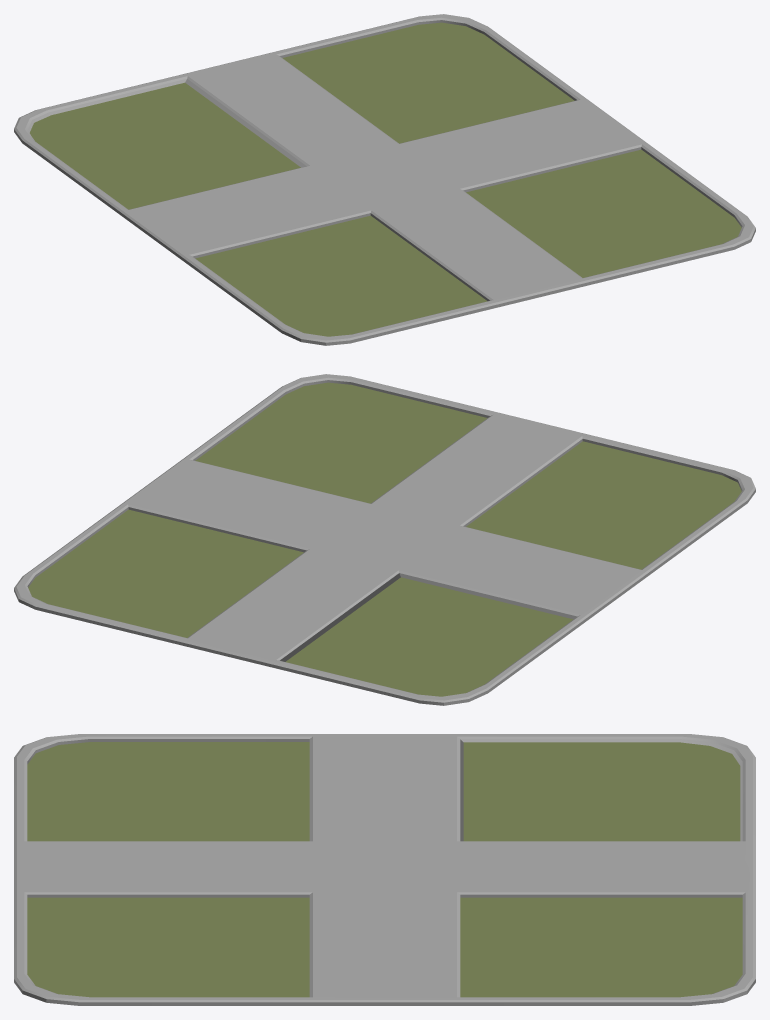
File: Suelo fuente.fbx
3 renders of one model, top to bottom at view 1: azimuth 30°, elevation 25°; view 2: azimuth 150°, elevation 25°; view 3: azimuth 270°, elevation 25°, orthographic. The views are drawn at different scales.
Visible parts, largest first — view 1: polySurface70; view 2: polySurface70; view 3: polySurface70.
Boxes of the visible parts, bbox=[...] form: polySurface70: bbox=[14, 14, 755, 345]; polySurface70: bbox=[14, 374, 755, 705]; polySurface70: bbox=[14, 734, 755, 1005].
Size of the model in its own units: 2434 by 21.48 by 2847.
